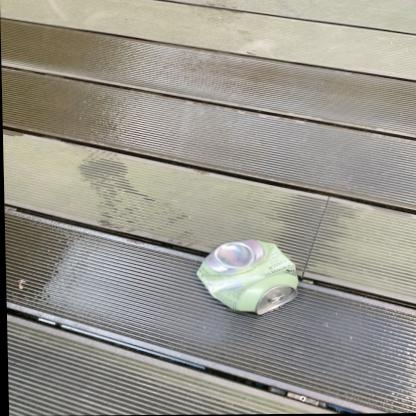trash: (197, 240, 297, 314)
